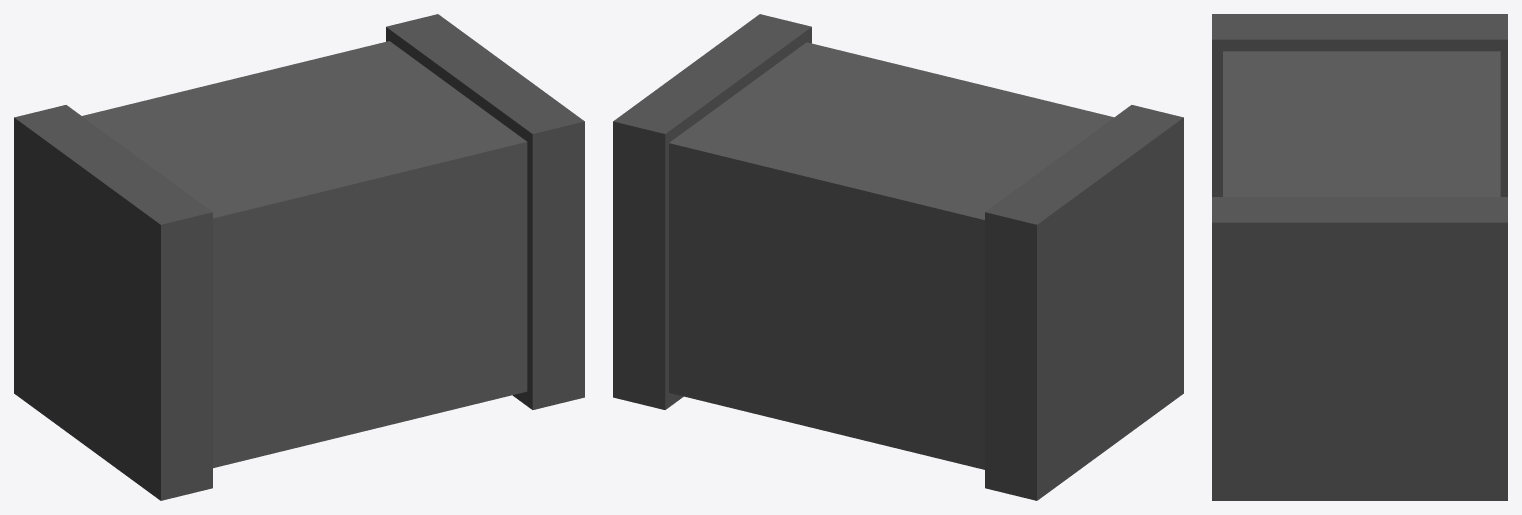
The model's file is Vent_2_B_4.fbx.
The picture shows the model from 3 angles, left to right: view 1: azimuth 30°, elevation 25°; view 2: azimuth 150°, elevation 25°; view 3: azimuth 270°, elevation 25°; orthographic projection.
Visible parts, largest first — view 1: Vent_2_B_4; view 2: Vent_2_B_4; view 3: Vent_2_B_4.
Boxes of the visible parts, x1,y1,x2,y2 form: Vent_2_B_4: (14,14,584,500); Vent_2_B_4: (613,14,1183,500); Vent_2_B_4: (1212,14,1507,500).
Size of the model in its own units: 59.43 by 36.98 by 35.62.
